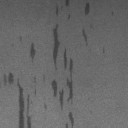red iron: (4, 72, 30, 128), (51, 48, 74, 110), (52, 24, 60, 70), (66, 112, 74, 128), (30, 43, 36, 62), (82, 28, 88, 46), (84, 2, 90, 16), (55, 5, 60, 16), (64, 0, 69, 7), (68, 14, 70, 20)
